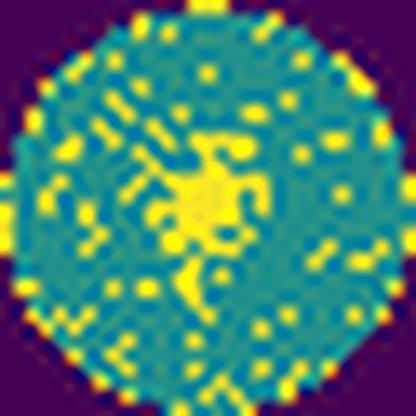Center: (116, 129, 275, 252)
